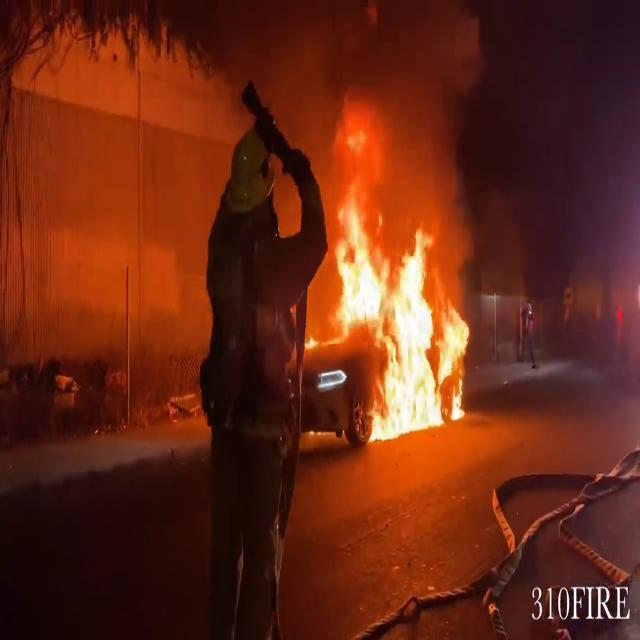Fire: (316, 136, 476, 442)
Smoke: (233, 0, 492, 192)
